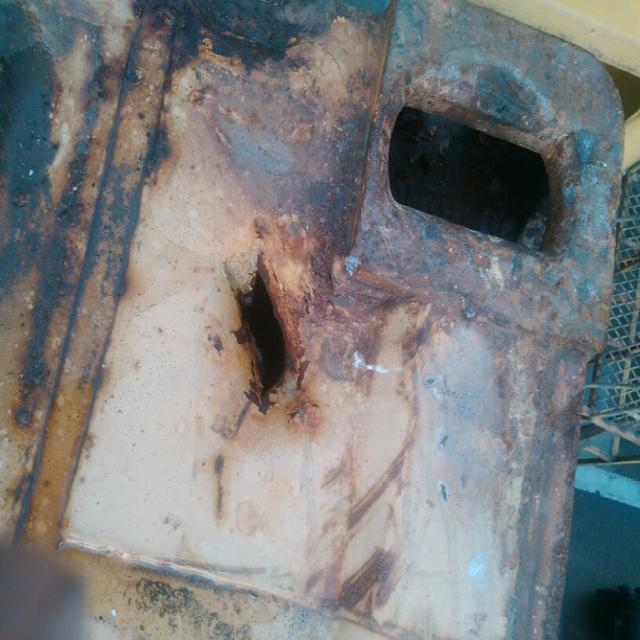hole: (220, 252, 315, 434)
